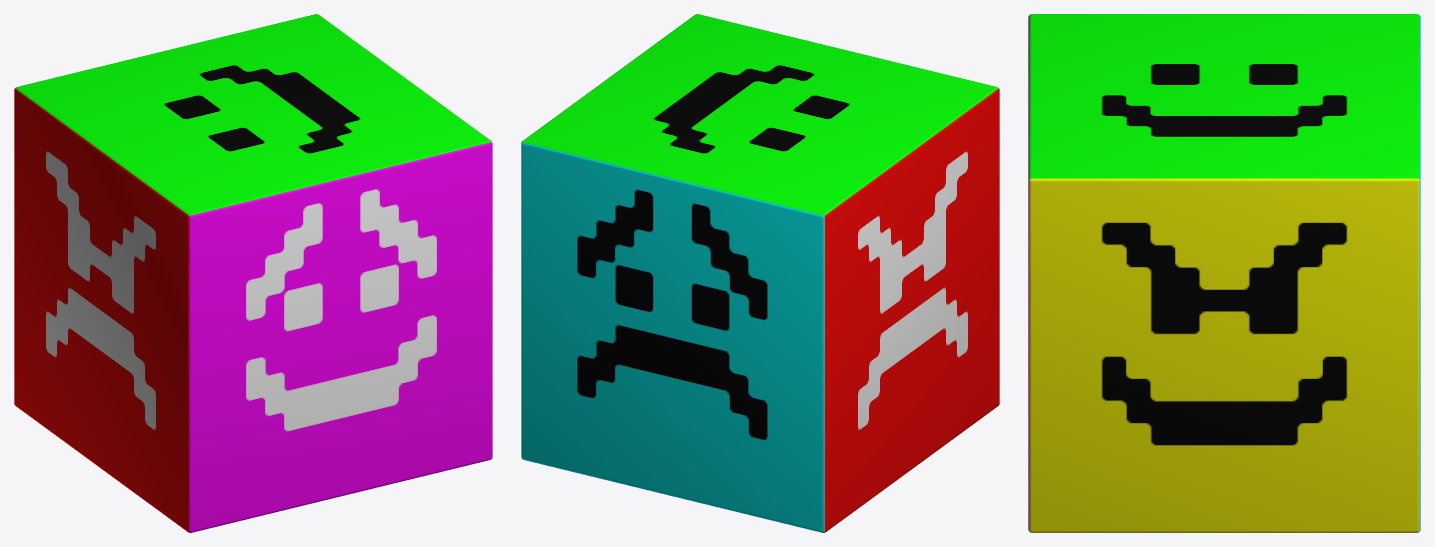
Rendered from JeffCube.glb.
3 renders of one model, left to right at view 1: azimuth 30°, elevation 25°; view 2: azimuth 150°, elevation 25°; view 3: azimuth 270°, elevation 25°, orthographic. The views are drawn at different scales.
Visible parts, largest first — view 1: Cube; view 2: Cube; view 3: Cube.
Part boxes in pixels (<box>): Cube: <box>14,14,492,532</box>; Cube: <box>521,14,999,532</box>; Cube: <box>1028,14,1420,532</box>.
Bounding box in the file's own units: 1 × 1 × 1.
1 material, 1 textured.
